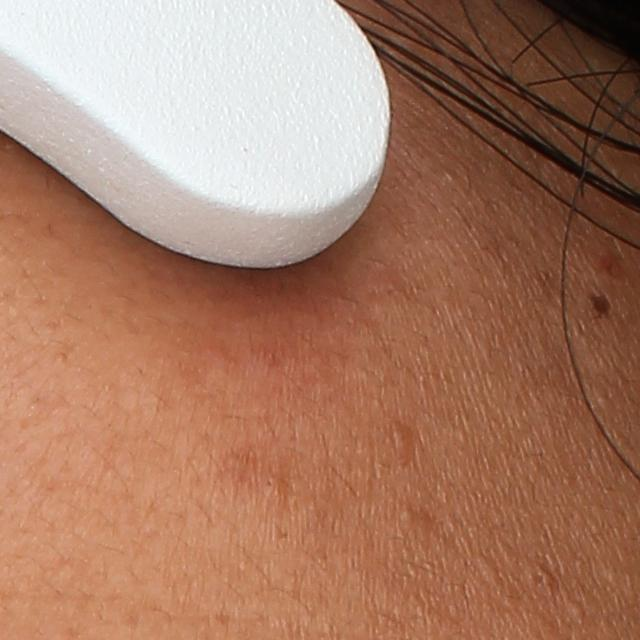comedo: (392, 425, 416, 451), (566, 596, 585, 625), (395, 503, 420, 525)
nevus: (590, 286, 616, 319)
